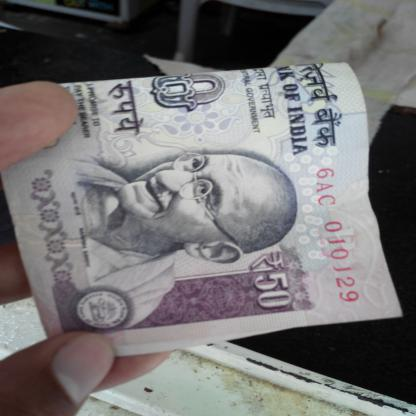Old50Front: (0, 61, 406, 357)
